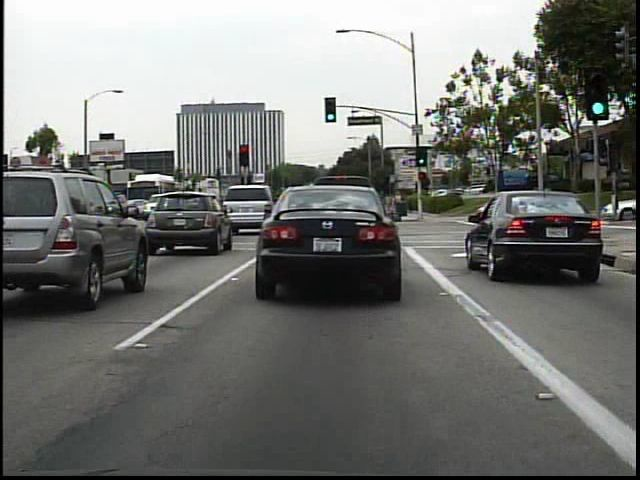person: (390, 186, 408, 218)
